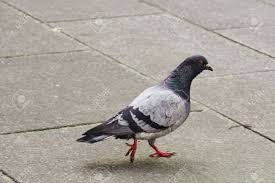Walking: (73, 39, 224, 176)
